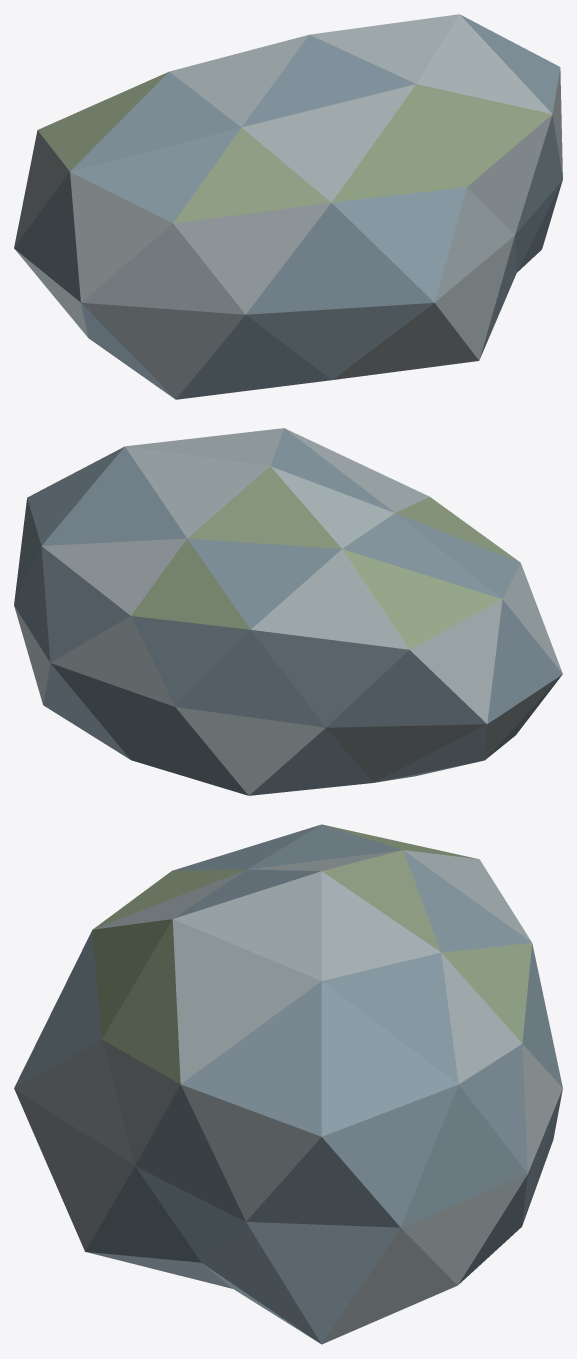
File: rock-3.glb
3 views of the same model, one above another, from view 1: azimuth 30°, elevation 25°; view 2: azimuth 150°, elevation 25°; view 3: azimuth 270°, elevation 25° (orthographic). The views are drawn at different scales.
Parts seen in each view (by area): view 1: rock.002; view 2: rock.002; view 3: rock.002.
Part boxes in pixels (left/top/right/bottom): rock.002: left=14, top=14, right=562, bottom=399; rock.002: left=14, top=428, right=562, bottom=795; rock.002: left=14, top=824, right=562, bottom=1344.
Size of the model in its own units: 7.66 by 4.02 by 5.74.
